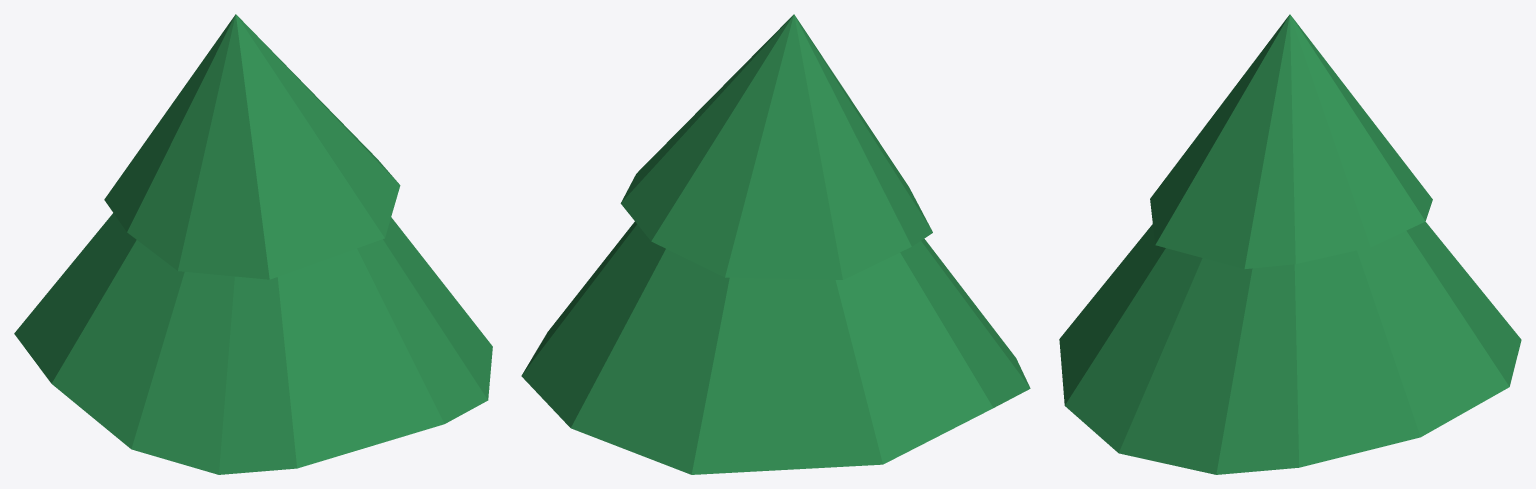
The model's file is bush10.fbx.
The picture shows the model from 3 angles, left to right: view 1: azimuth 30°, elevation 25°; view 2: azimuth 150°, elevation 25°; view 3: azimuth 270°, elevation 25°; orthographic projection. The views are drawn at different scales.
Visible parts, largest first — view 1: bush10; view 2: bush10; view 3: bush10.
Part boxes in pixels (left/top/right/bottom): bush10: left=14, top=14, right=492, bottom=474; bush10: left=521, top=14, right=1030, bottom=474; bush10: left=1059, top=14, right=1521, bottom=474.
Size of the model in its own units: 102 by 86.14 by 100.
